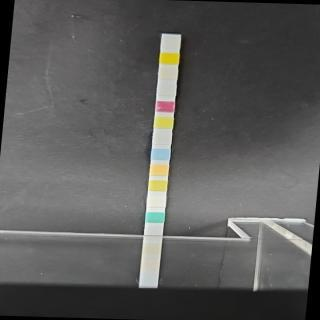mark: (158, 69, 178, 82), (155, 100, 175, 113), (147, 195, 166, 208), (145, 212, 165, 224), (160, 53, 179, 65), (154, 118, 173, 130), (151, 149, 170, 161), (153, 134, 173, 145), (150, 164, 168, 176), (161, 39, 180, 50), (148, 180, 167, 191), (157, 86, 176, 96)
